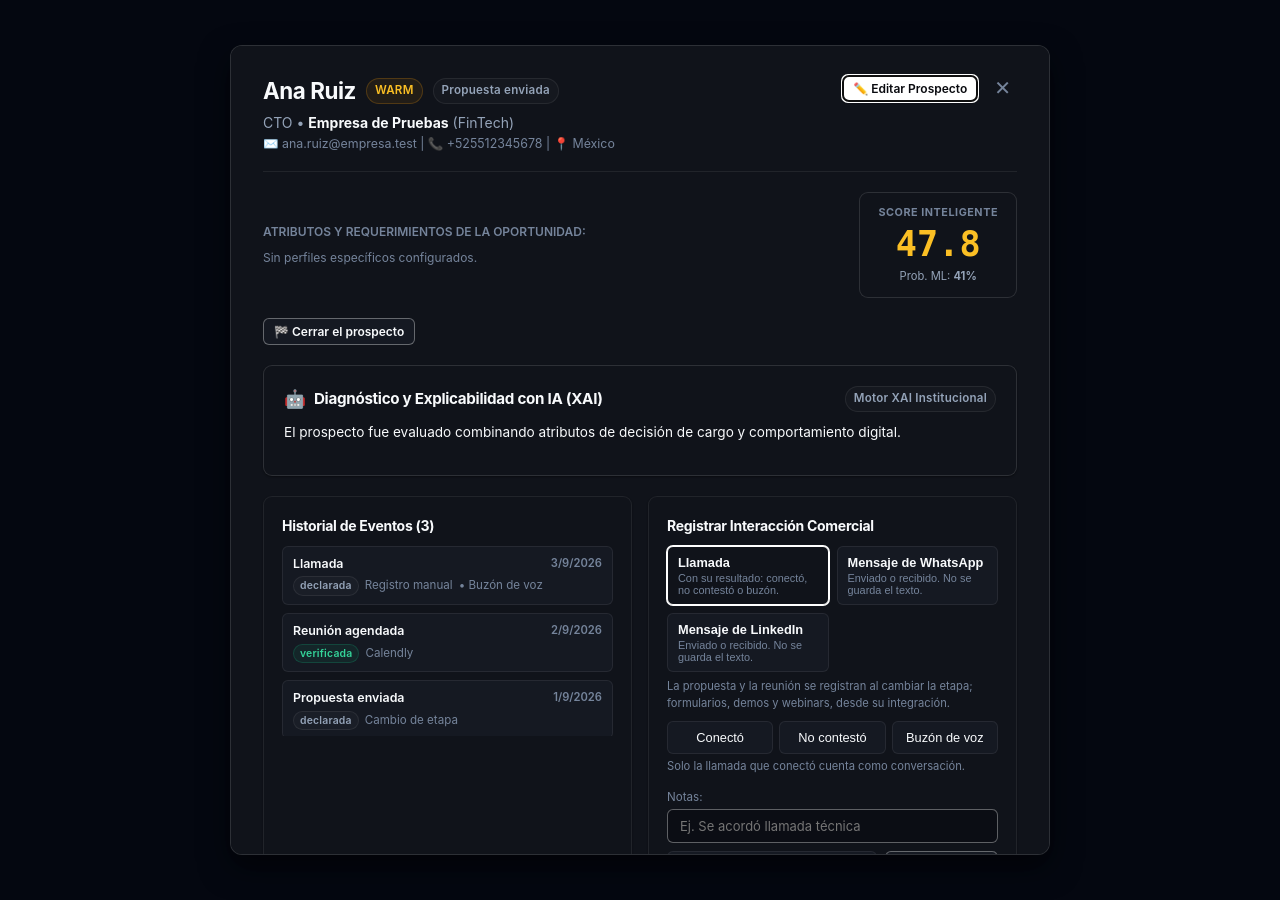
Test: editar una ficha de la página de interés › sin apellidos escritos no manda un apellido vacío que el servidor rechazaría
The width and height of the screenshot is (1280, 900).
Click the button "✏️ Editar Prospecto": (910, 88) [842,74,978,102]
(page scrolled)
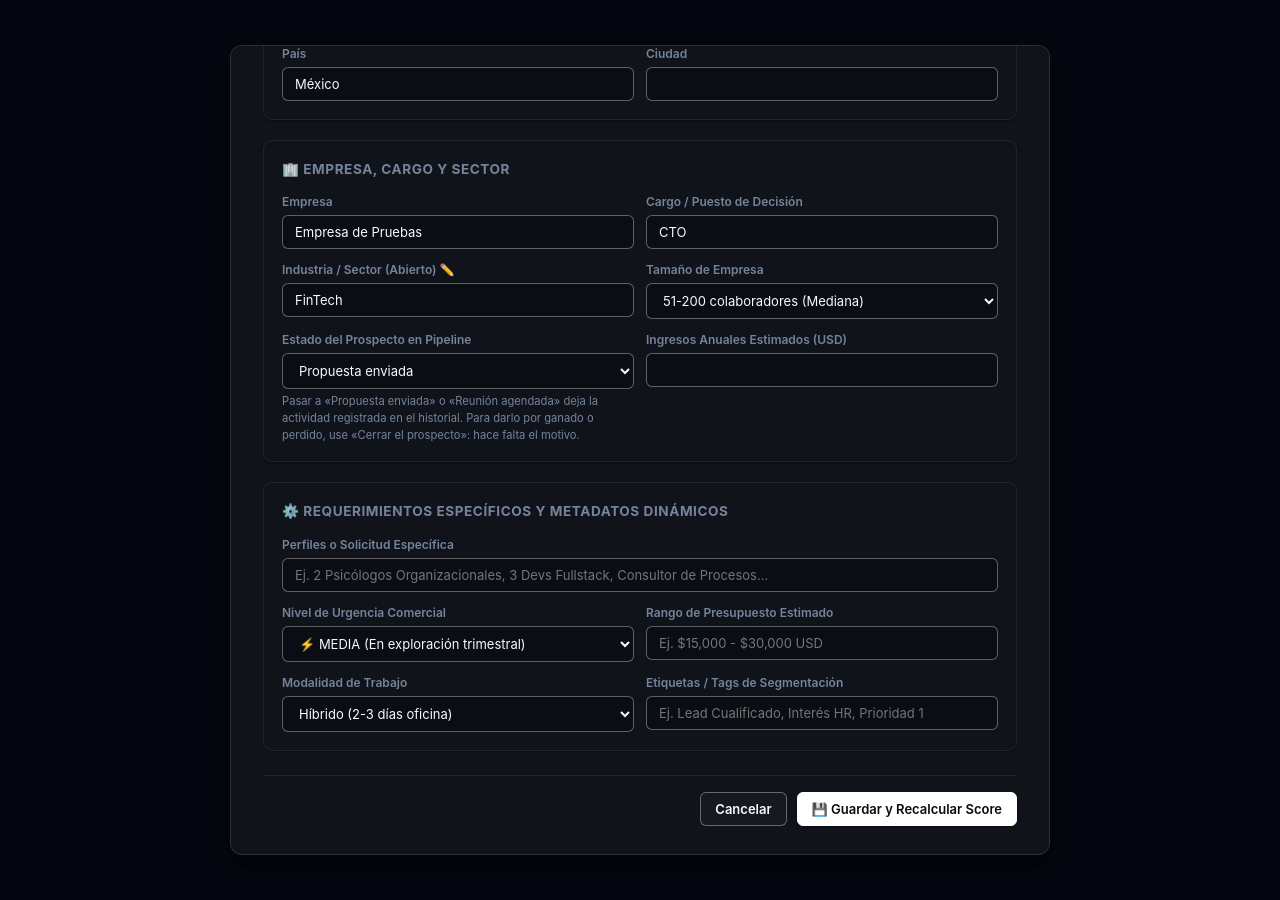
Click the button "💾 Guardar y Recalcular Score": (907, 809) [797,792,1017,826]
(page scrolled)
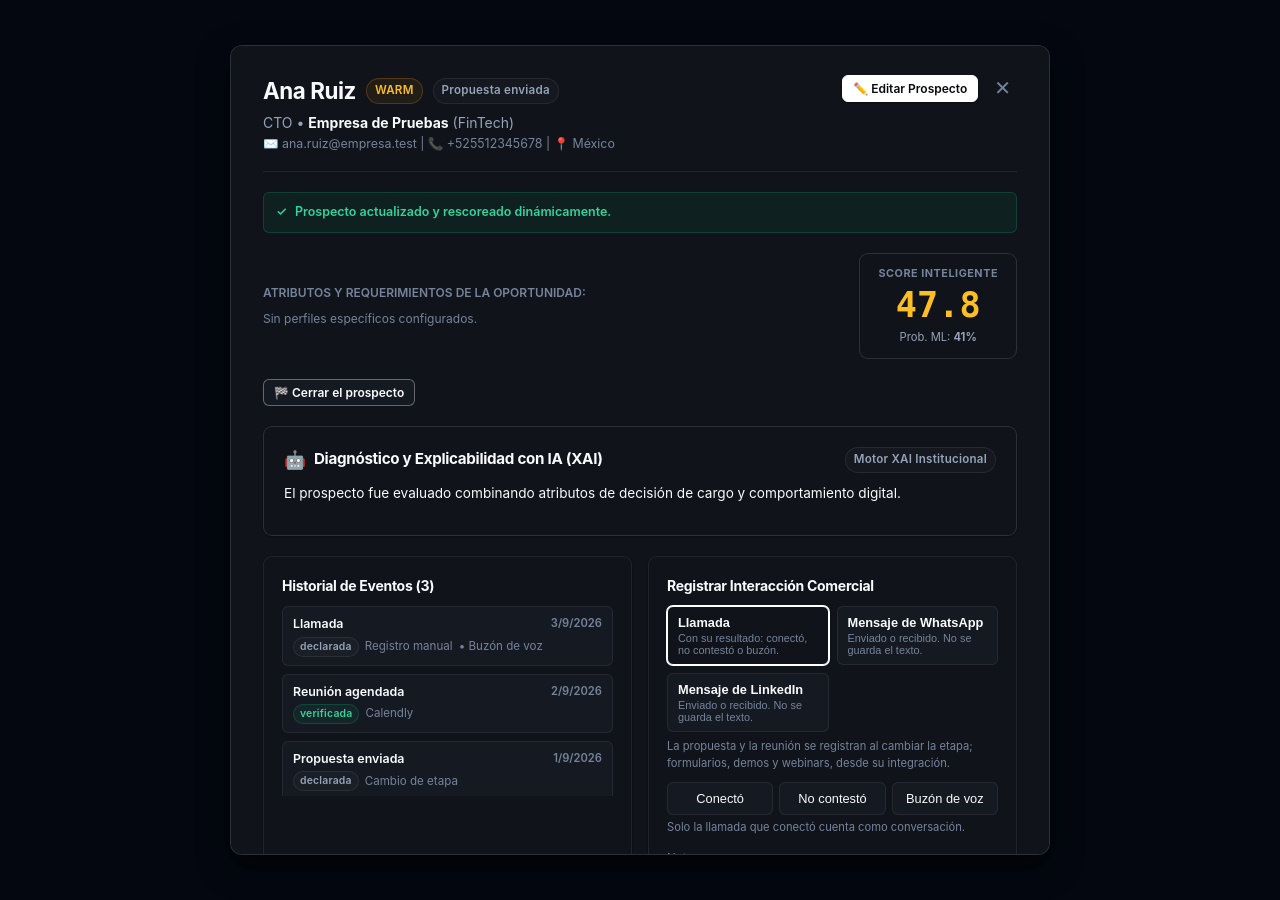
expect the heading "Ana Ruiz" is shown: met, box [263,74,356,108]
